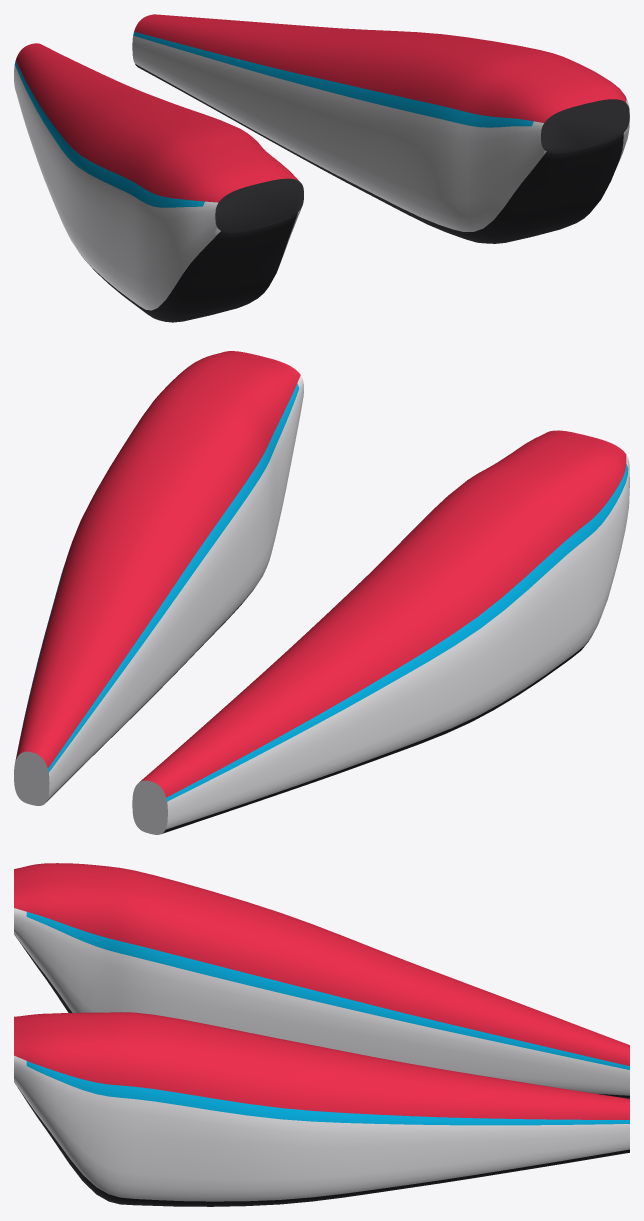
The model's file is downwash.glb.
3 views of the same model, one above another, from view 1: azimuth 30°, elevation 25°; view 2: azimuth 150°, elevation 25°; view 3: azimuth 270°, elevation 25° (orthographic). The views are drawn at different scales.
Visible parts, largest first — view 1: Sidepods_downwash; view 2: Sidepods_downwash; view 3: Sidepods_downwash.
Part boxes in pixels (bbox=[...]): Sidepods_downwash: bbox=[14, 14, 629, 322]; Sidepods_downwash: bbox=[14, 351, 629, 834]; Sidepods_downwash: bbox=[14, 863, 629, 1206].
Size of the model in its own units: 1.53 by 0.6036 by 1.94.
